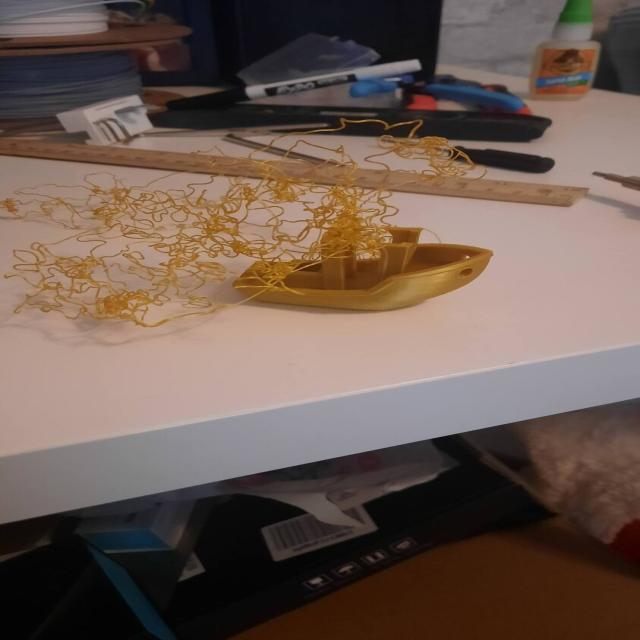spaghetti: (21, 145, 422, 315)
